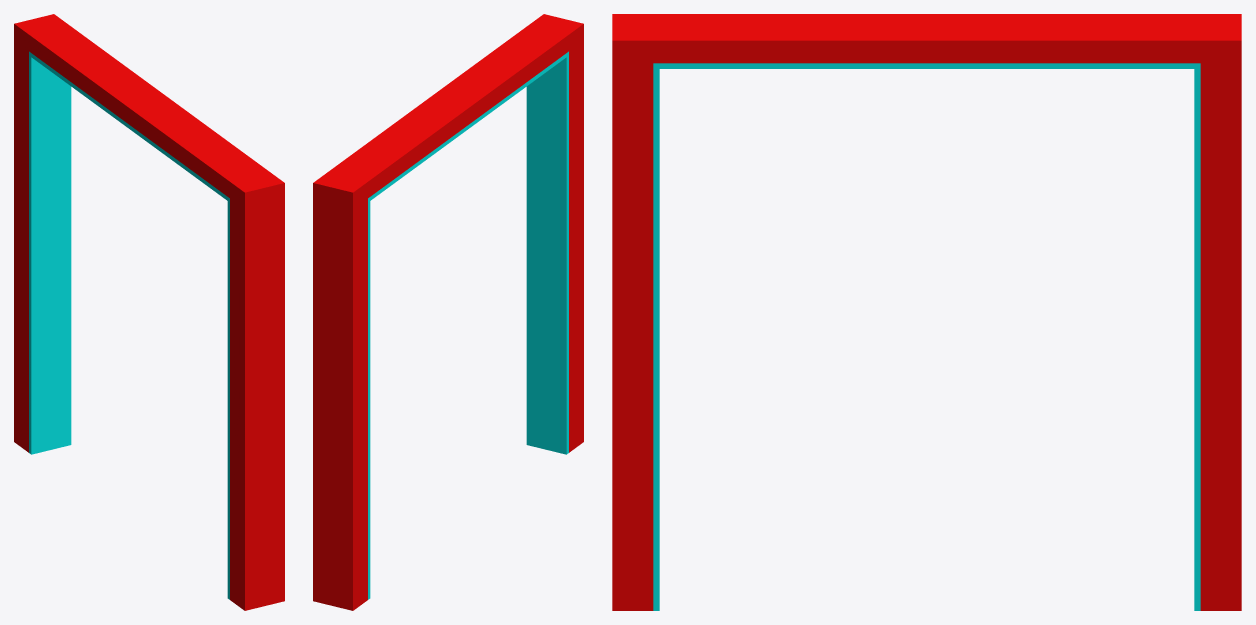
Rendered from Wall_DoubleDoor_200x200.fbx.
The picture shows the model from 3 angles, left to right: view 1: azimuth 30°, elevation 25°; view 2: azimuth 150°, elevation 25°; view 3: azimuth 270°, elevation 25°; orthographic projection. The views are drawn at different scales.
Visible parts, largest first — view 1: Wall_DoubleDoor_200x200; view 2: Wall_DoubleDoor_200x200; view 3: Wall_DoubleDoor_200x200.
Boxes of the visible parts, x1,y1,x2,y2 form: Wall_DoubleDoor_200x200: (14,14,284,610); Wall_DoubleDoor_200x200: (313,14,583,610); Wall_DoubleDoor_200x200: (612,14,1241,610).
Size of what is drawn, in the model's own units: 20 by 200 by 200.
